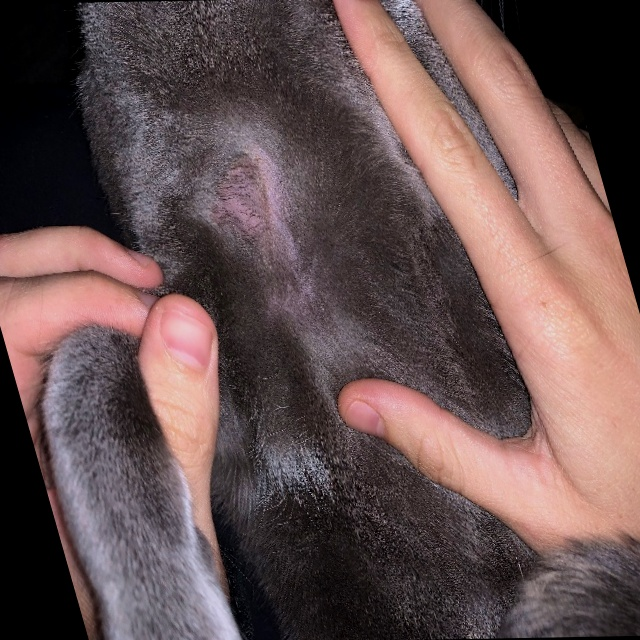hairloss: (177, 135, 306, 265)
